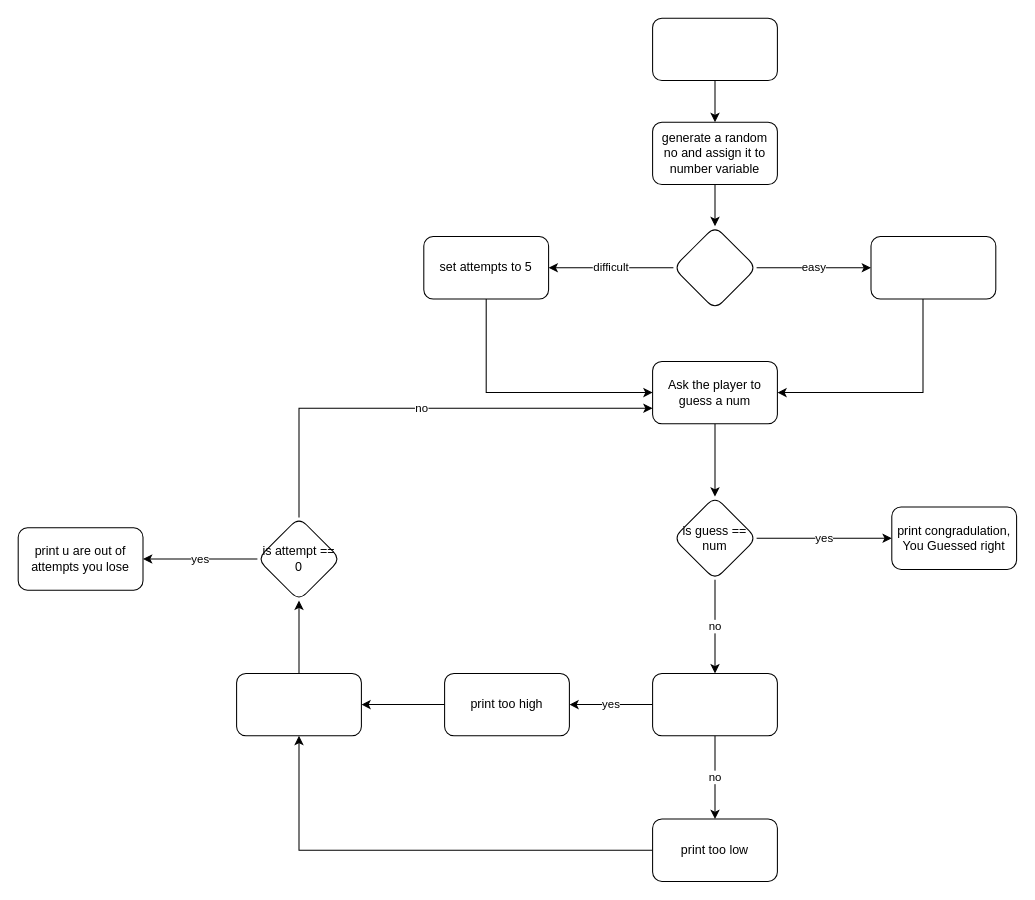
The diagram is 1035 pixels wide and 900 high, and some of its shapes have lost their labels. The shapes that lost their labels are listed below. From the top down, each one's box as (x1, y1, x2, y2) in pixels, then its label:
(652, 17, 777, 81): start
(672, 225, 757, 309): difficulty?
(870, 236, 996, 299): set attempts to 10
(236, 672, 361, 736): attempt -= 1
(652, 672, 777, 736): is guess > num
